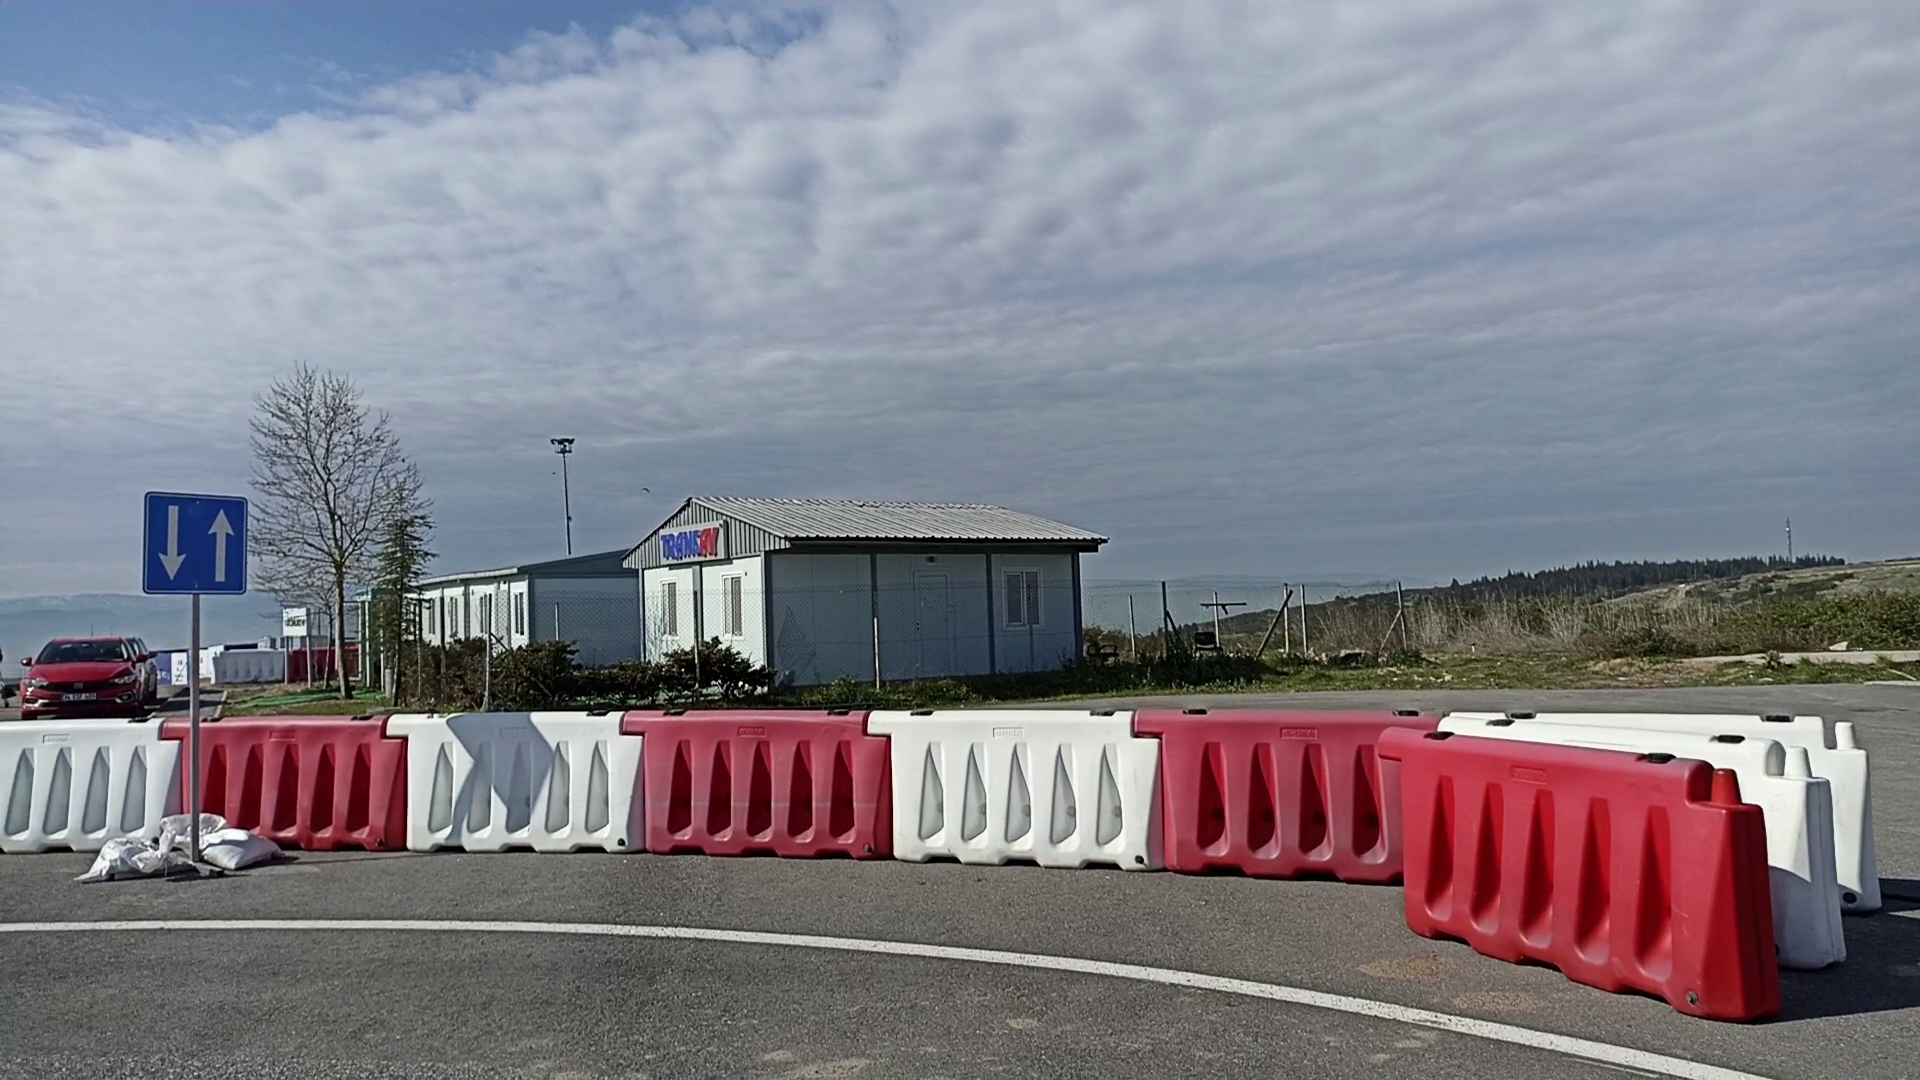oneway: (140, 491, 251, 597)
